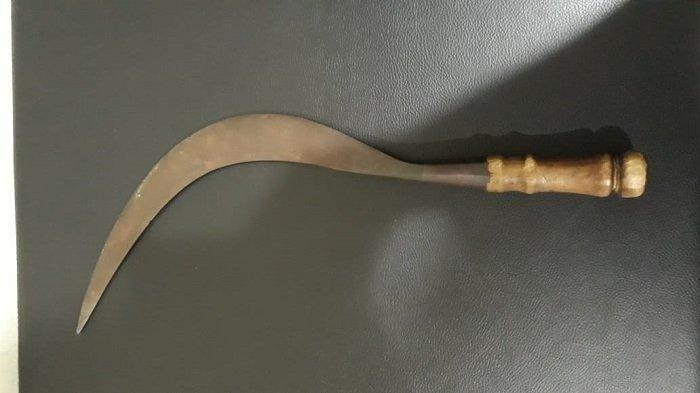foice: (77, 114, 646, 333)
